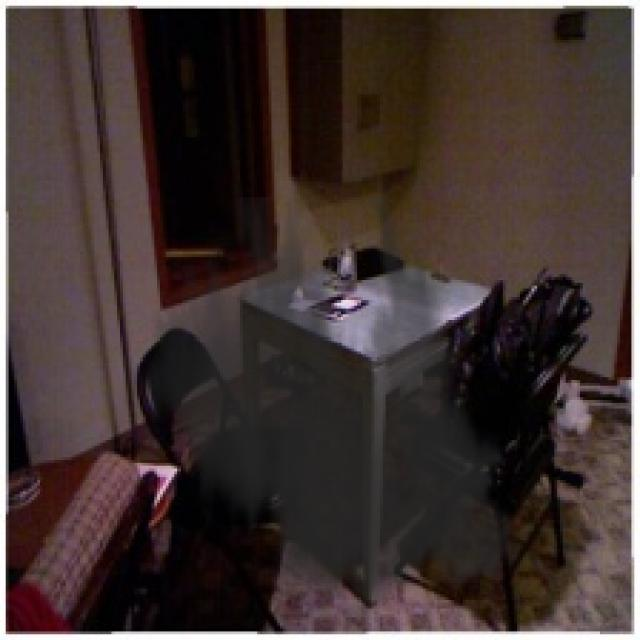smoke: (132, 197, 532, 623)
